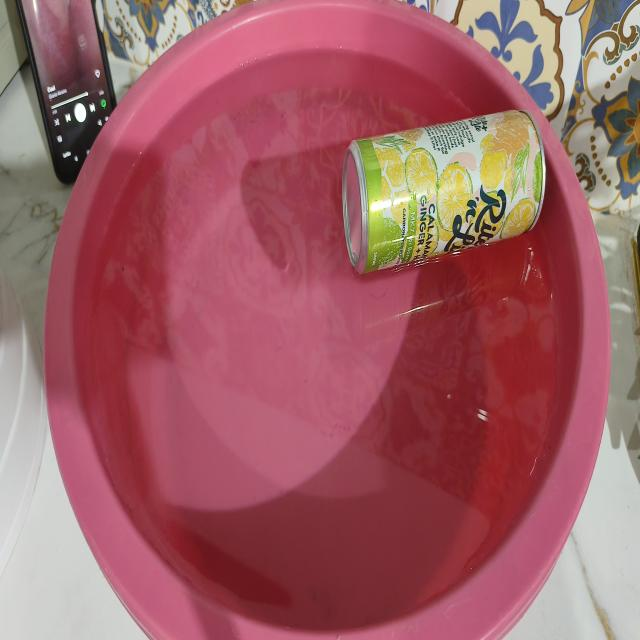Aluminum Can: (342, 111, 546, 274)
